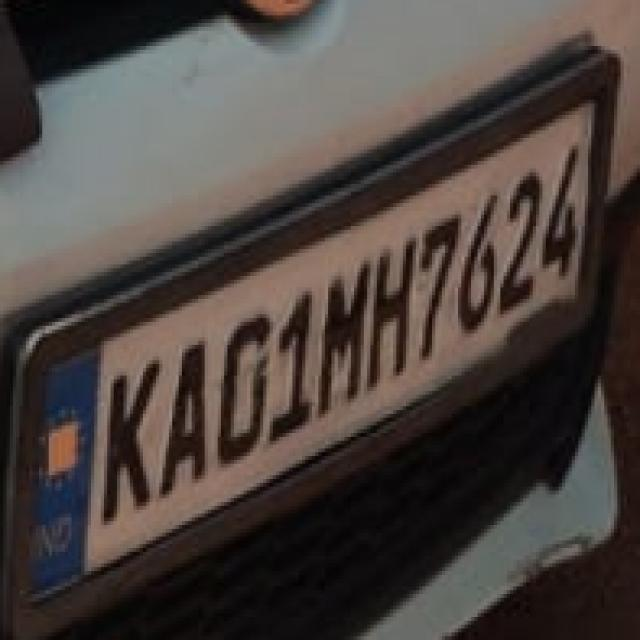0: (218, 305, 274, 474)
1: (267, 281, 316, 452)
4: (540, 137, 590, 294)
6: (451, 183, 501, 350)
7: (411, 204, 464, 368)
A: (156, 330, 213, 509)
H: (367, 227, 419, 399)
K: (96, 350, 167, 539)
M: (316, 246, 373, 424)
